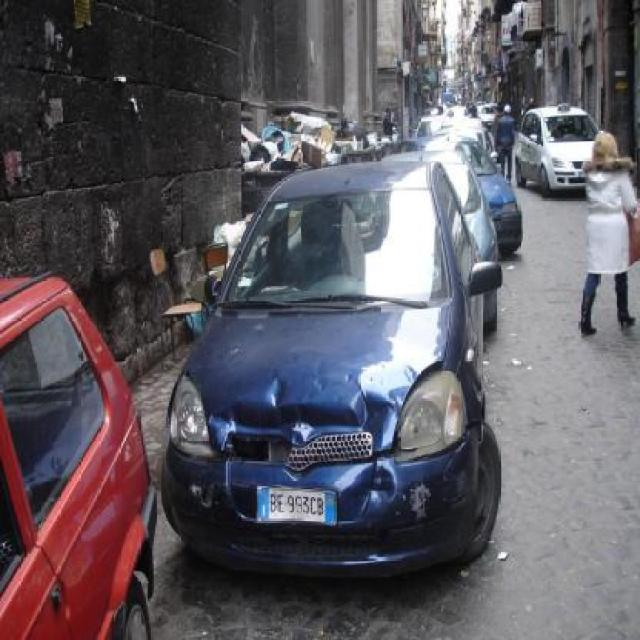License-Plates: (257, 485, 337, 527)
